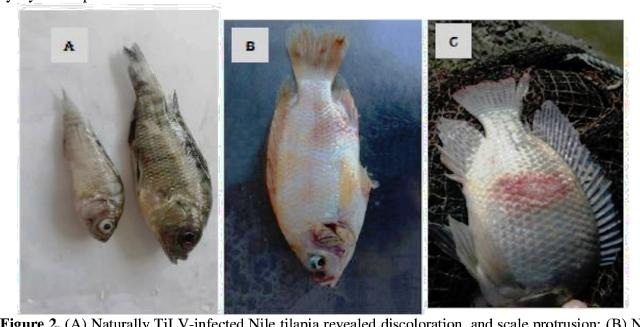Tilapia Lake Virus -TiLV-: (430, 72, 622, 307), (429, 74, 621, 306), (268, 26, 374, 287), (124, 44, 212, 263)
